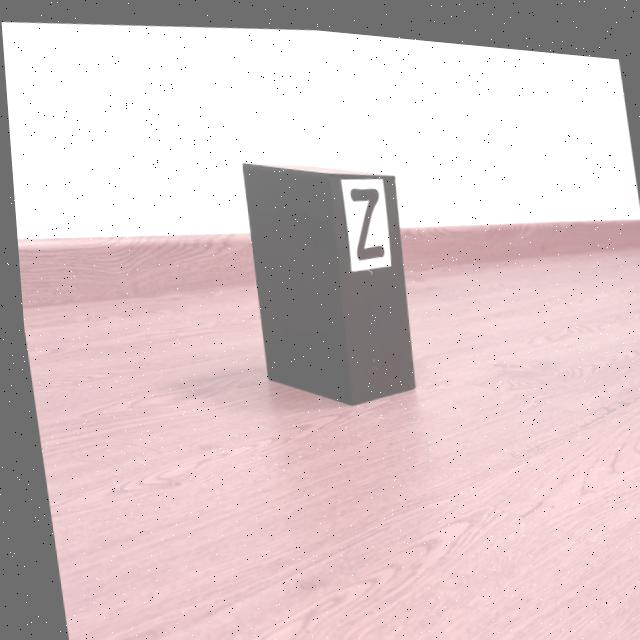Z: (347, 181, 381, 253)
